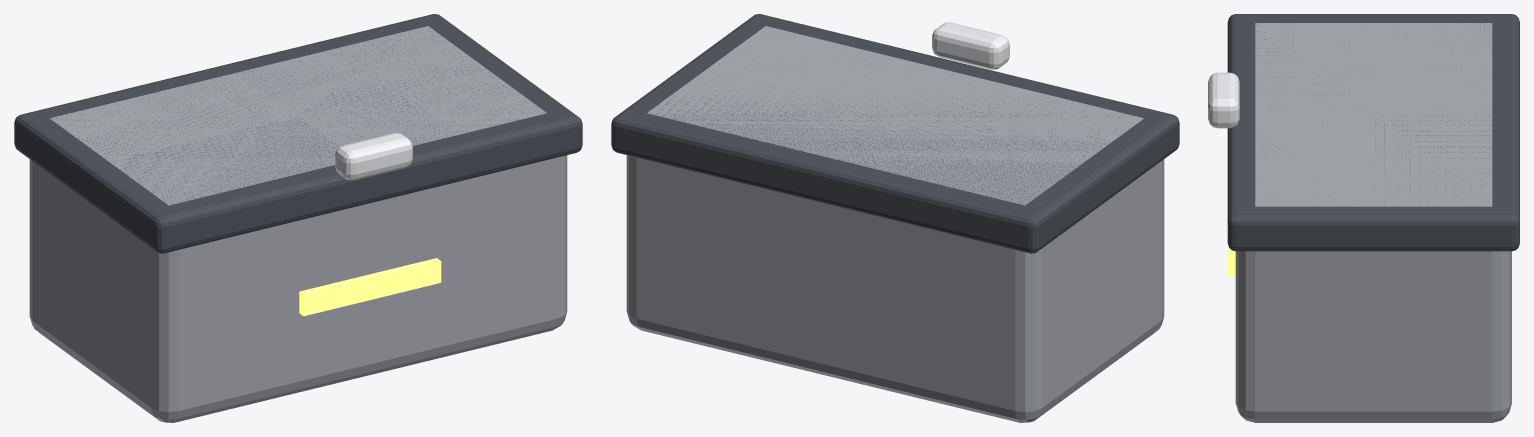
Rendered from cargo_crate_ammo_box.glb.
The picture shows the model from 3 angles, left to right: view 1: azimuth 30°, elevation 25°; view 2: azimuth 150°, elevation 25°; view 3: azimuth 270°, elevation 25°; orthographic projection.
Visible parts, largest first — view 1: GD_cargo_crate_ammo_box__m0, GD_cargo_crate_ammo_box__m1, GD_cargo_crate_ammo_box__m3, GD_cargo_crate_ammo_box__m2; view 2: GD_cargo_crate_ammo_box__m0, GD_cargo_crate_ammo_box__m1, GD_cargo_crate_ammo_box__m2; view 3: GD_cargo_crate_ammo_box__m0, GD_cargo_crate_ammo_box__m1, GD_cargo_crate_ammo_box__m2, GD_cargo_crate_ammo_box__m3.
Boxes of the visible parts, x1,y1,x2,y2 form: GD_cargo_crate_ammo_box__m0: [29, 26, 567, 422]; GD_cargo_crate_ammo_box__m1: [14, 14, 582, 253]; GD_cargo_crate_ammo_box__m3: [299, 258, 441, 316]; GD_cargo_crate_ammo_box__m2: [335, 133, 412, 180]; GD_cargo_crate_ammo_box__m0: [626, 26, 1164, 422]; GD_cargo_crate_ammo_box__m1: [611, 14, 1179, 253]; GD_cargo_crate_ammo_box__m2: [932, 22, 1009, 69]; GD_cargo_crate_ammo_box__m0: [1235, 23, 1511, 422]; GD_cargo_crate_ammo_box__m1: [1227, 14, 1519, 251]; GD_cargo_crate_ammo_box__m2: [1208, 72, 1239, 128]; GD_cargo_crate_ammo_box__m3: [1227, 188, 1235, 276].
Size of the model in its own units: 0.62 by 0.34 by 0.395.
